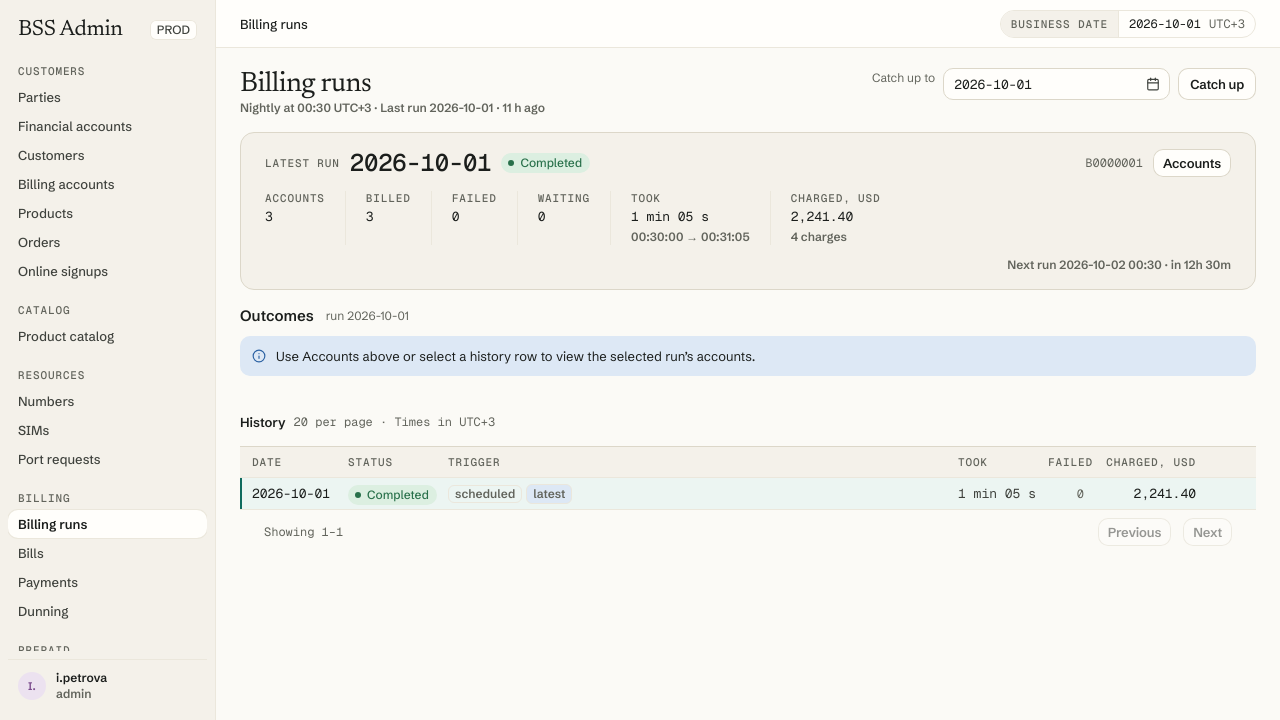
Test: billing runs: catch up to a date › says so when nothing is due, and queues nothing
The width and height of the screenshot is (1280, 720).
Check: the element "Latest run" is shown, box x1=240 y1=132 x2=1256 y2=290
Click the button "Catch up": point(1217, 84) x1=1178 y1=68 x2=1256 y2=100
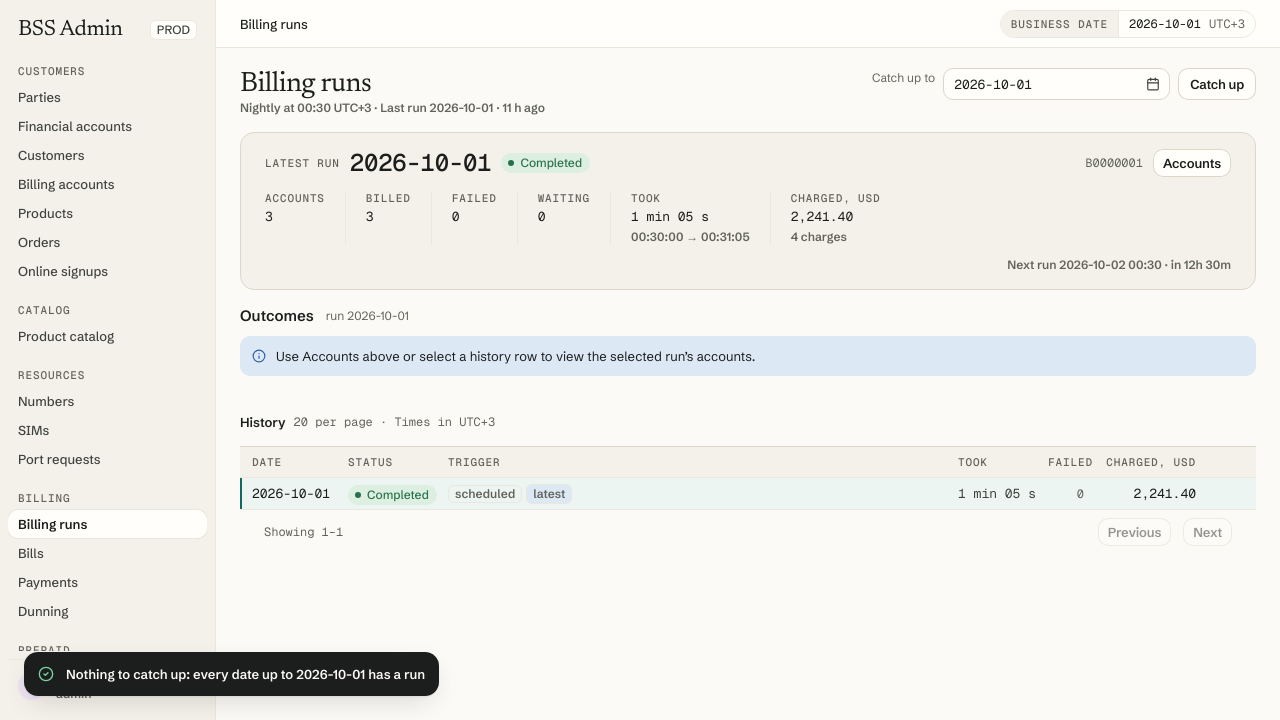
Check: the text "Nothing to catch up: every date up to 2026-10-01 has a run" is shown, box x1=66 y1=664 x2=425 y2=684
